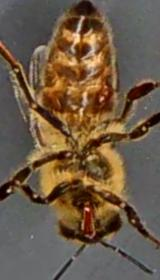varroa_mite: (92, 78, 120, 116)
